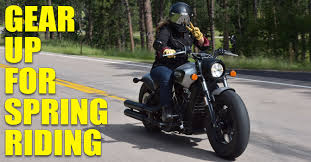helmet: (163, 3, 198, 34)
